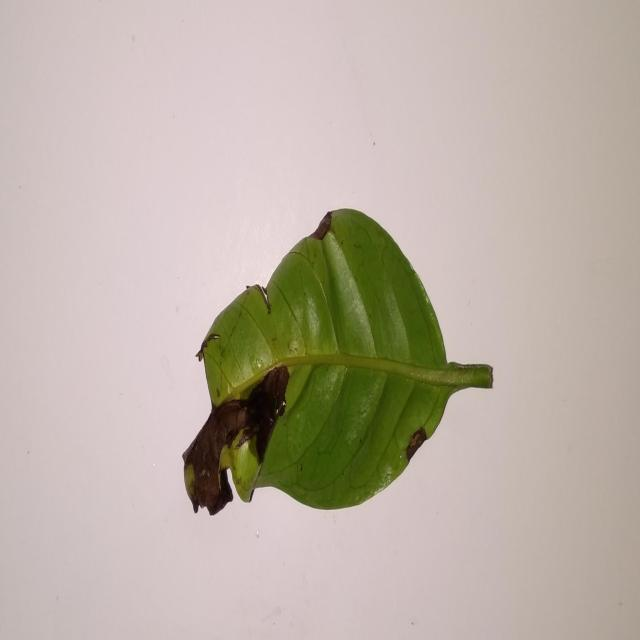Enfermedad-Antracnosis: (181, 208, 494, 519)
